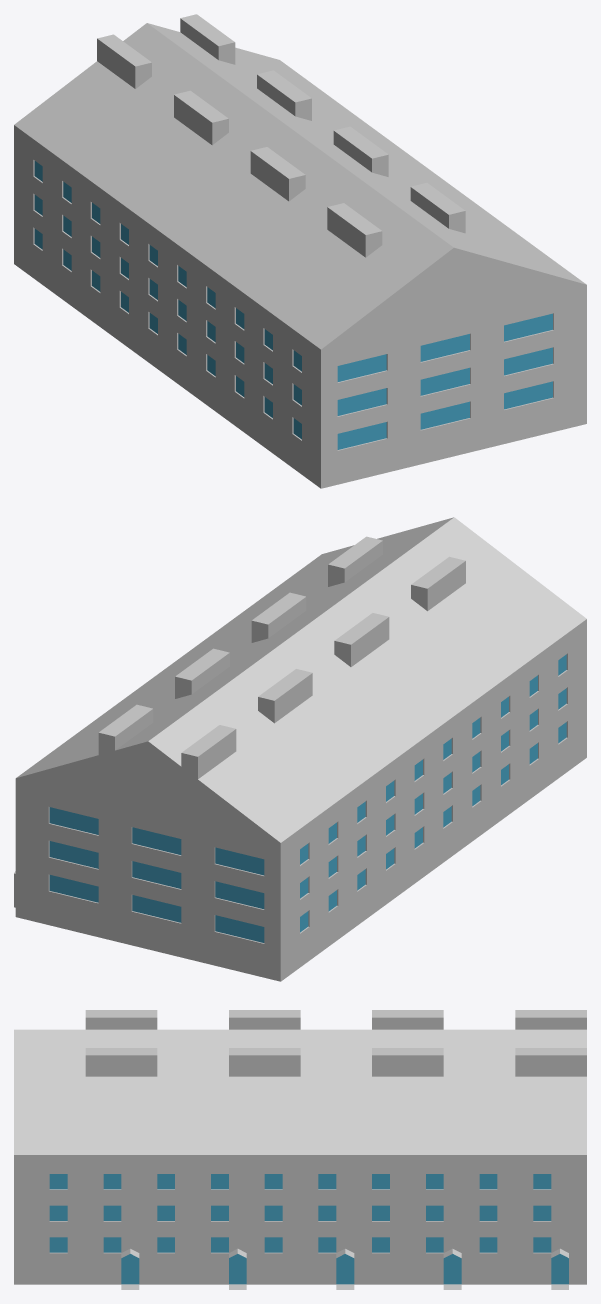
The model's file is BudynekNr5.fbx.
3 views of the same model, one above another, from view 1: azimuth 30°, elevation 25°; view 2: azimuth 150°, elevation 25°; view 3: azimuth 270°, elevation 25° (orthographic). The views are drawn at different scales.
Visible parts, largest first — view 1: Plane.003; view 2: Plane.003; view 3: Plane.003.
Boxes of the visible parts, x1,y1,x2,y2 form: Plane.003: (14,14,586,488); Plane.003: (14,517,586,981); Plane.003: (14,1010,586,1289).
Bounding box in the file's own units: 417 × 300 × 800.
